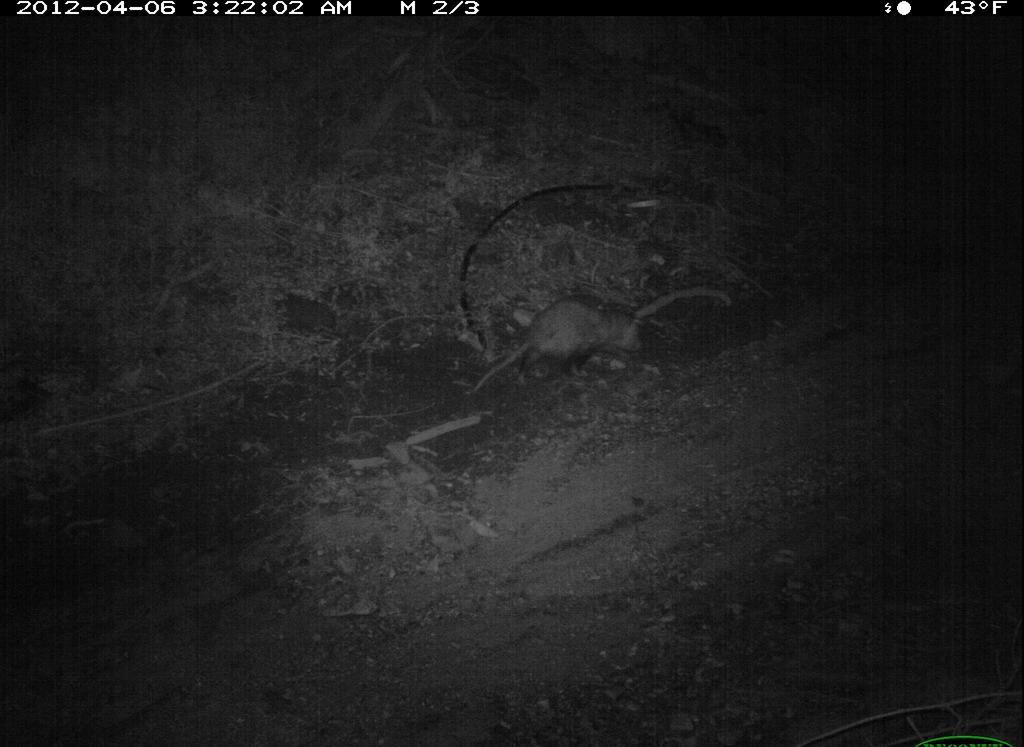opossum: (466, 291, 652, 398)
